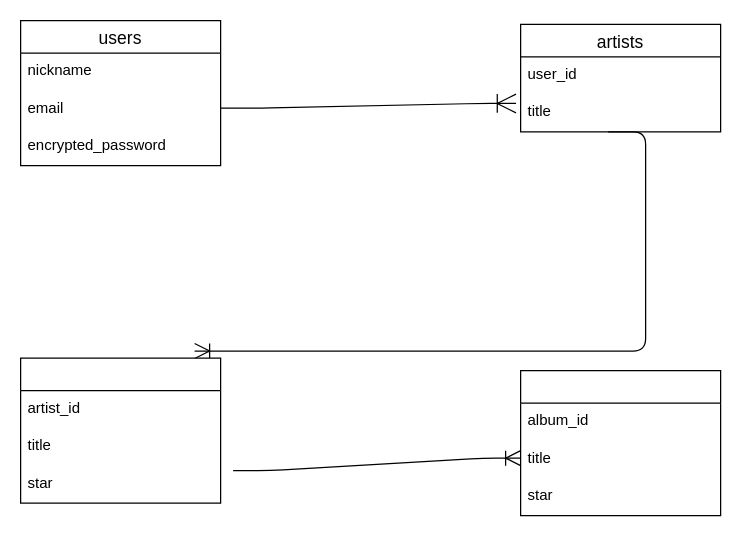
Image size: 741x536. Some labels were removed from this diagram. The shapes that lost their labels are listed below. From the top down, each one's box as (x1, y1, x2, y2) in pixels, then its label:
(19, 357, 221, 503): albums
(519, 369, 721, 516): songs
